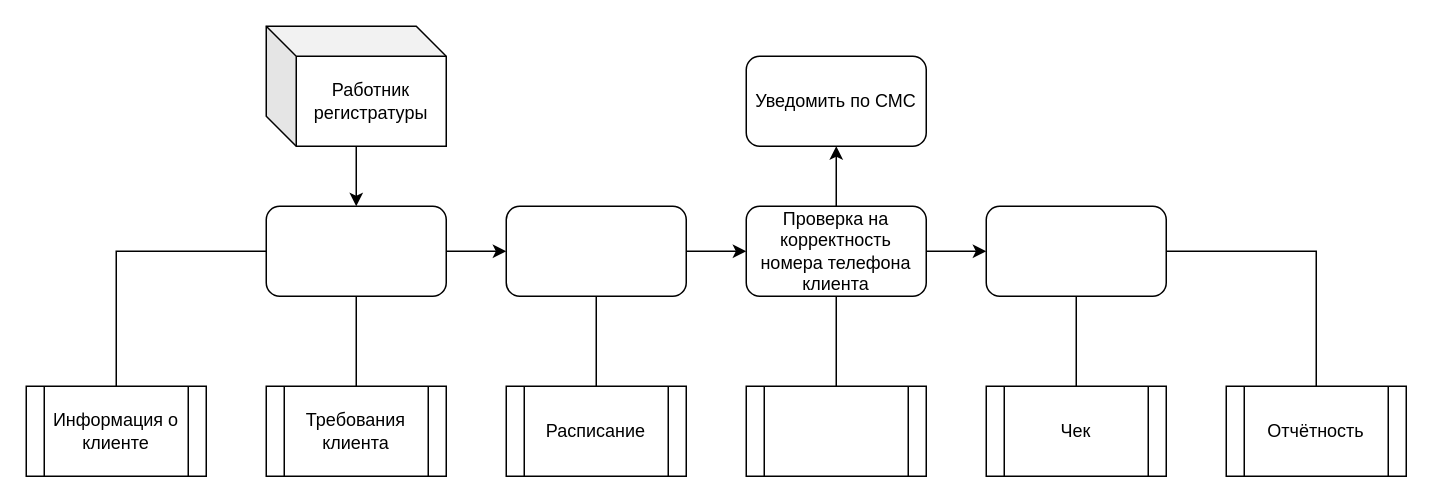
Image size: 1433x503. Some labels were removed from this diagram. Here are the shapes that lost their labels. From the top down, the centre of each, then its label:
point (355, 250): Проверка заявки на корректность
point (595, 250): Проверка на свободную дату и время
point (1075, 250): Оказание услуги
point (835, 430): БД
